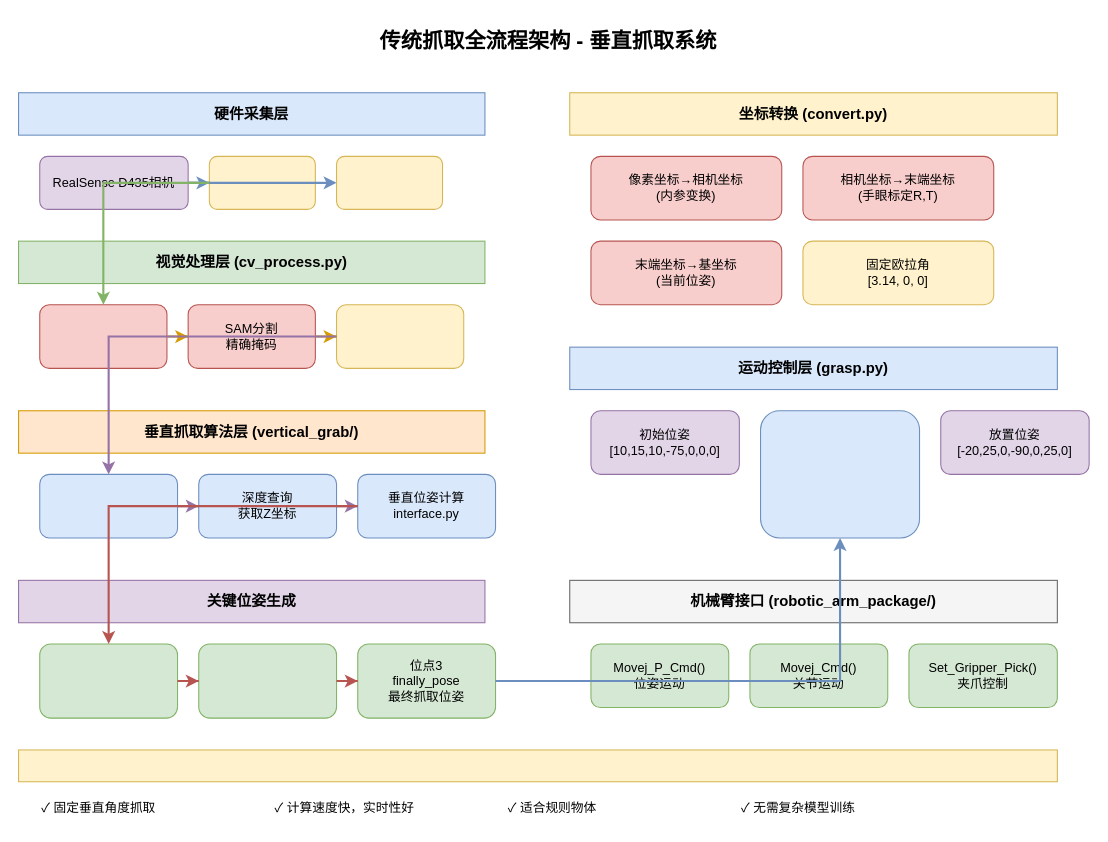
The diagram is 1108 pixels wide and 842 high, and some of its shapes have lost their labels. The box of each missing label's shape, as (x1, y1, x2, y2) in pixels:
RGB图像 640x480: (208, 155, 315, 209)
YOLO-World 目标检测: (39, 304, 167, 368)
二值掩码 (0/255): (335, 304, 464, 368)
传统抓取特点: (17, 749, 1057, 782)
位点1 above_object_pose 物体上方位姿: (39, 643, 178, 718)
位点2 correct_angle_pose 角度调整位姿: (198, 643, 337, 718)
深度图像 640x480: (335, 155, 443, 209)
计算物体中心 (质心/轮廓): (39, 473, 178, 538)
运动序列执行 1.初始位→位点1 2.位点1→位点2 3.闭合夹爪 4.返回初始位 5.放置位姿: (759, 410, 920, 538)
